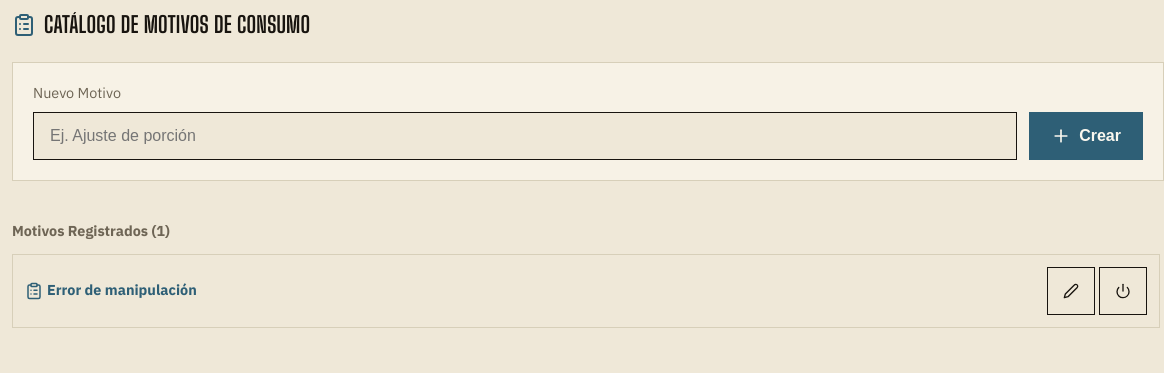
TK-107-FE: ConsumptionReasonsManagementPanel Component Suite › renombra un motivo desde el formulario inline de edición
Expected: the text "Error de manipulación" is shown, x1=47 y1=280 x2=197 y2=301
Click the button named "Editar Motivo".
click(1071, 290)  # box x1=1047 y1=266 x2=1095 y2=314
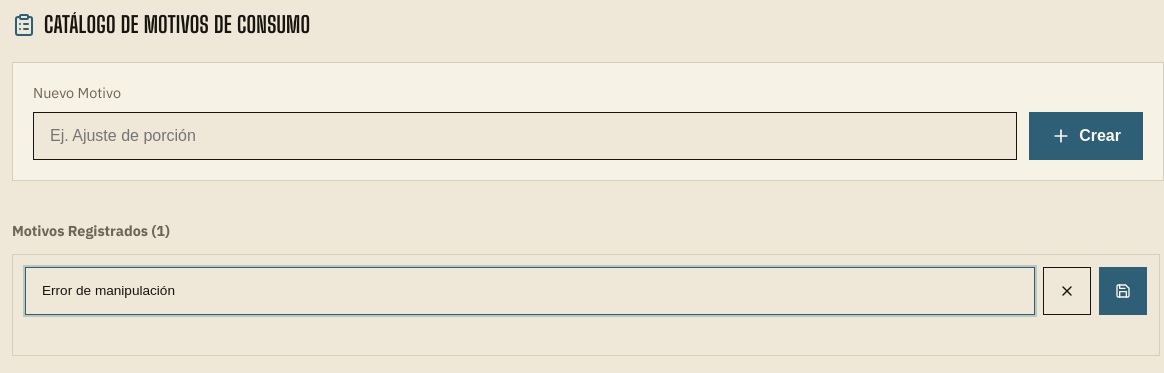
Replace the text in the field named "Editar etiqueta" with "Rotura accidental" at [530, 290], box x1=25 y1=266 x2=1035 y2=314
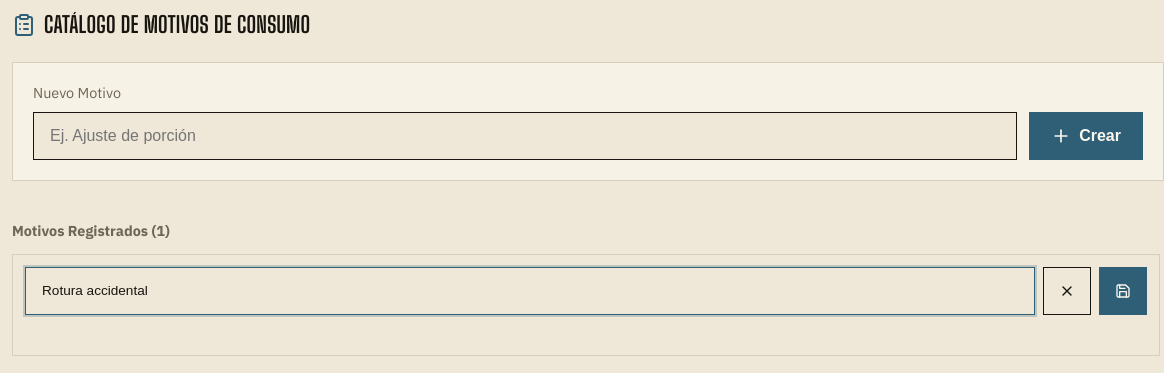
Click the button named "Guardar".
click(1123, 290)  # box x1=1099 y1=266 x2=1147 y2=314
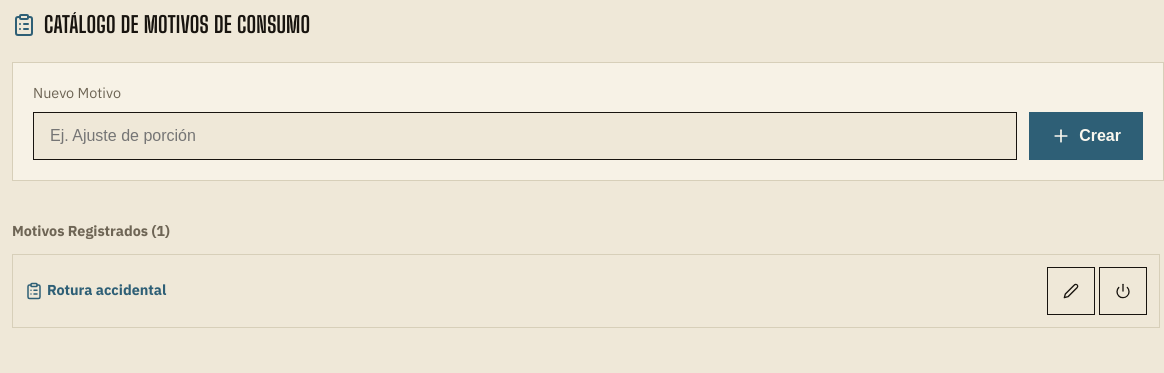
Now the text "Rotura accidental" is shown, box x1=47 y1=280 x2=166 y2=301
